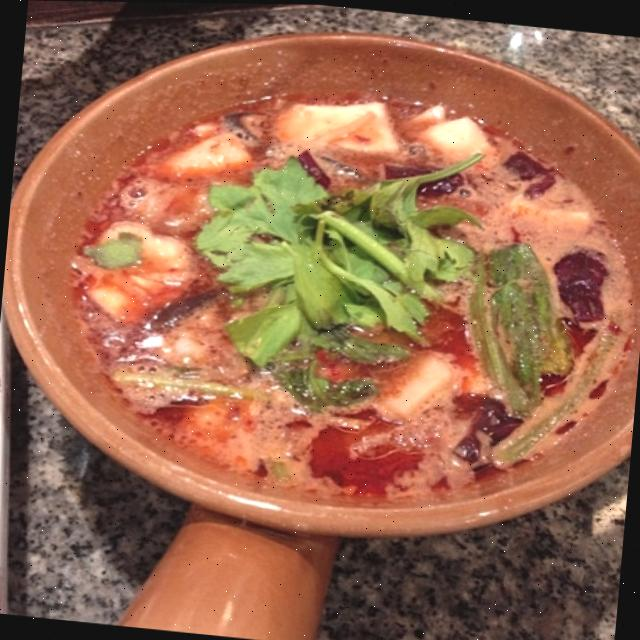汤锅炖物: (1, 0, 640, 565)
